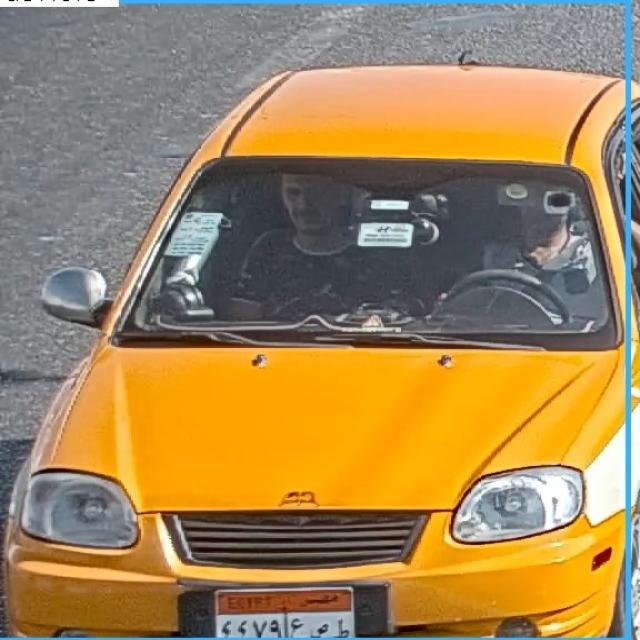windshield: (140, 162, 602, 336)
